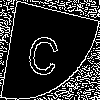C: (24, 25, 63, 79)
